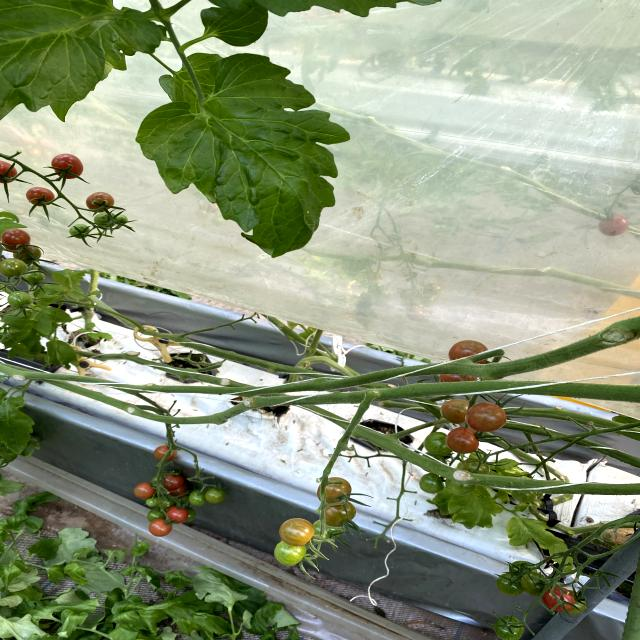ripe0: (274, 541, 307, 567)
ripe1: (280, 518, 314, 547)
ripe2: (466, 401, 507, 432), (51, 153, 84, 181), (447, 427, 480, 454), (1, 229, 31, 249), (26, 187, 55, 206), (0, 160, 18, 185), (149, 518, 172, 537), (168, 505, 188, 524)
